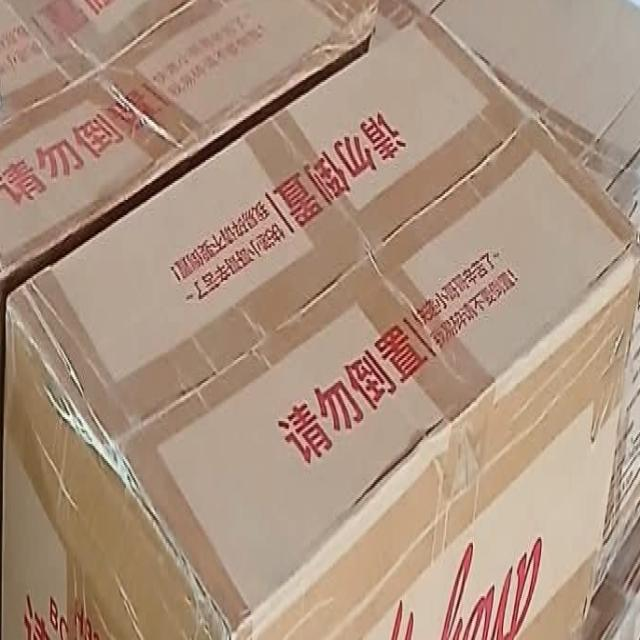carton_box: (3, 29, 635, 640)
